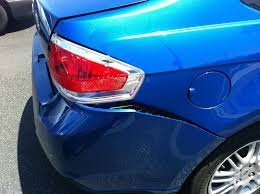Scratch: (55, 111, 94, 137)
